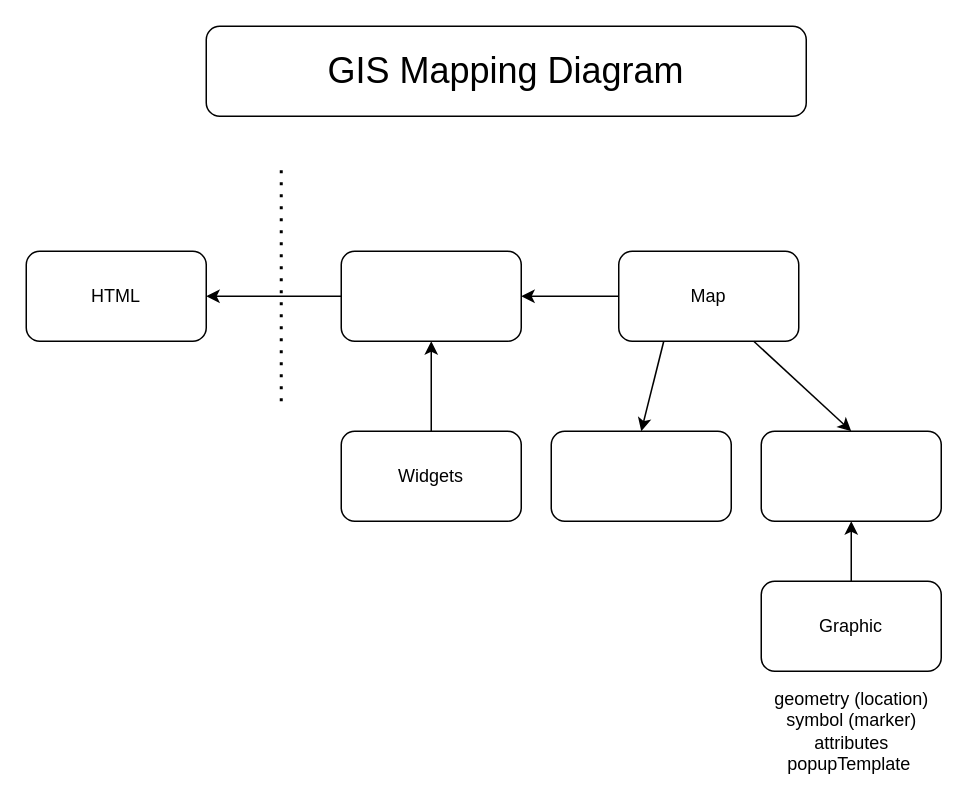
The diagram is 975 pixels wide and 810 high, and some of its shapes have lost their labels. The shapes that lost their labels are listed below. From the top down, each one's centre as x and y in pixels, then its label:
the point at 430,295: MapView
the point at 640,475: Feature Layer
the point at 850,475: Graphics Layer
